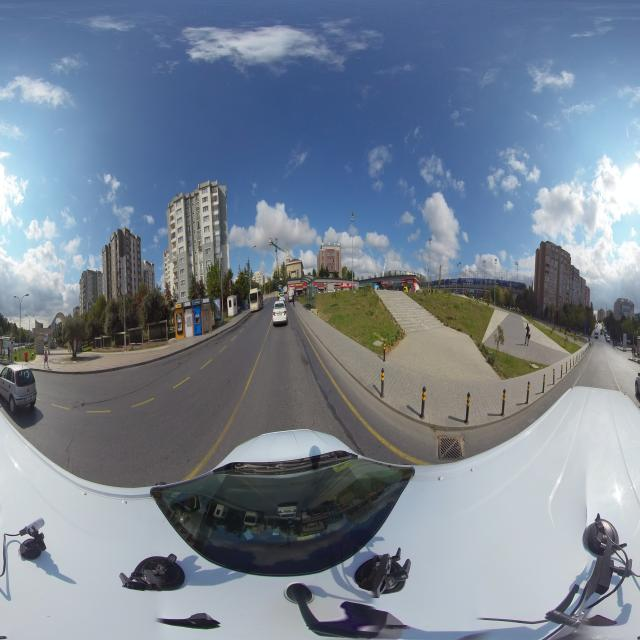SignStore: (373, 281, 380, 285), (407, 280, 413, 284), (295, 283, 302, 286), (381, 281, 387, 284), (290, 284, 295, 287), (354, 284, 359, 287), (388, 280, 393, 283), (334, 283, 340, 285), (343, 283, 347, 285)
